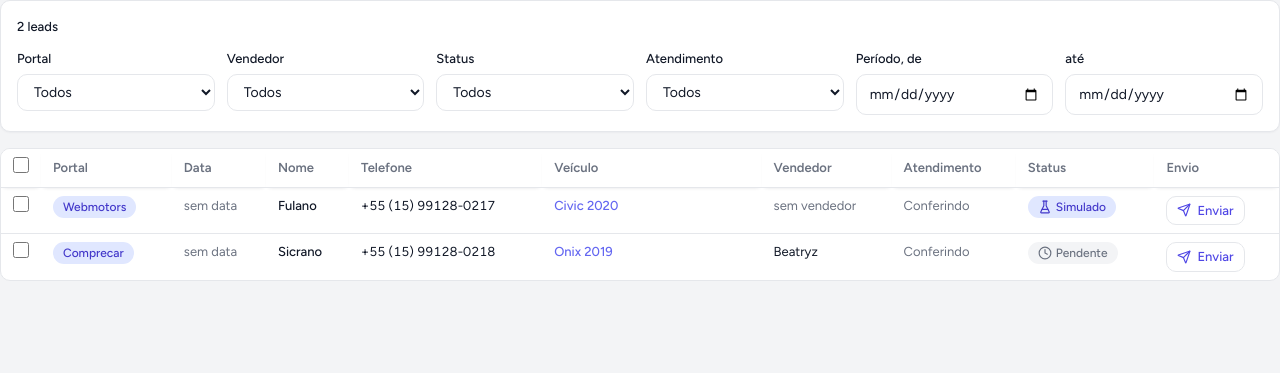
Test: tela de leads: selecao para o envio em lote › trocar o filtro limpa a selecao
Expected: the text "Fulano" is shown, [266,188,349,234]
Click the checkbox named "selecionar todos os vis" at (21, 165), box [13,157,29,173]
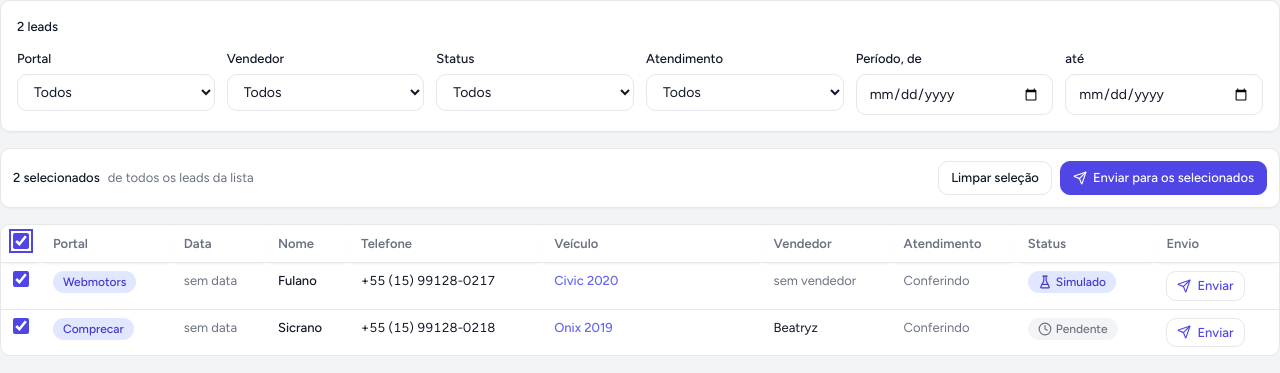
Expected: the text "2 selecionados" is shown, [13,170,100,185]
Select "Beatryz" in the dropdown labelled "Vendedor" at (326, 92), box [227,74,424,111]
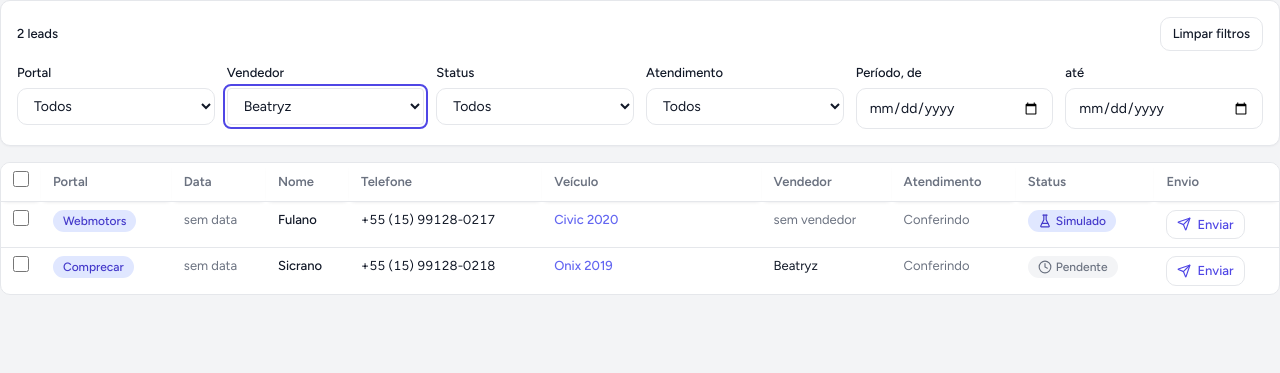
Expected: the text "selecionado" is gone
